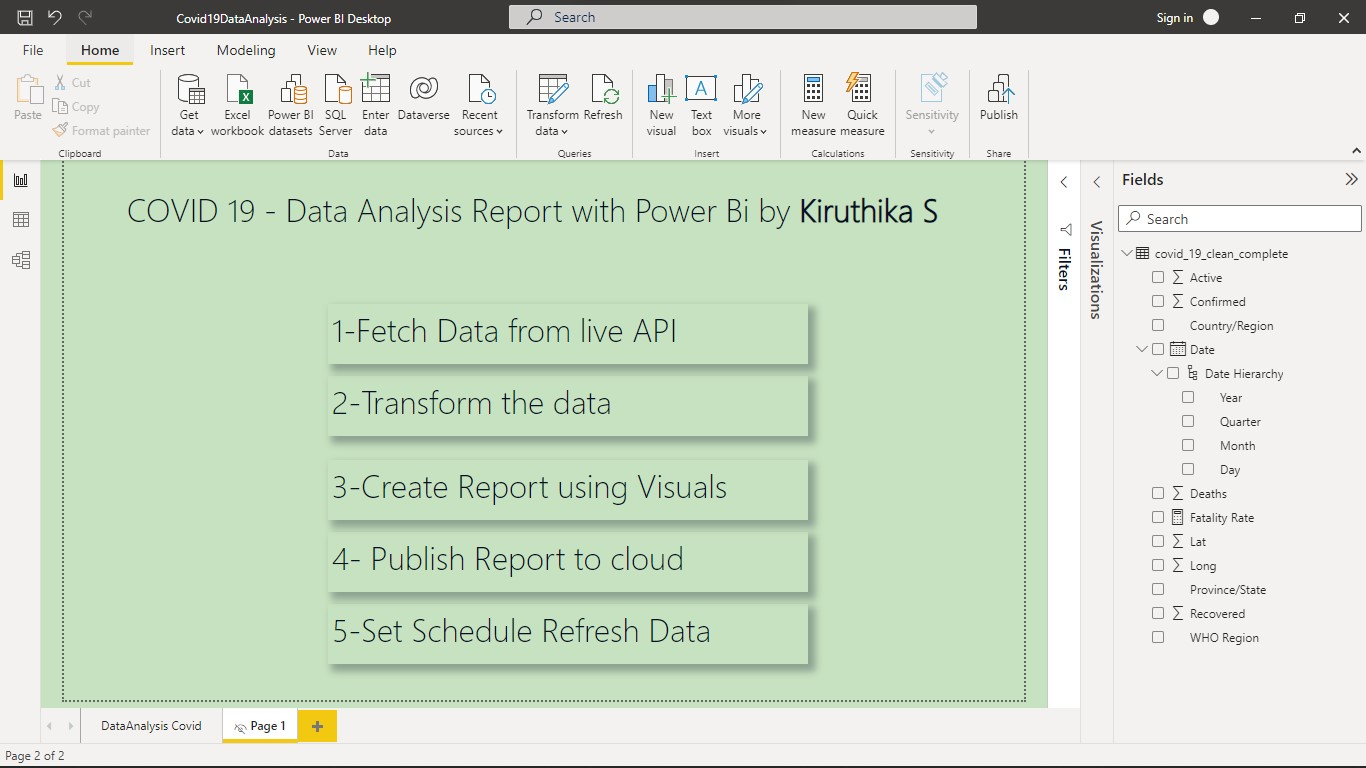

The page's visual inventory and layout, read from the dashboard file:
{"tool":"powerbi","page":{"name":"Page 1","canvas":[1280,720],"ordinal":1},"visuals":[{"type":"textbox","box":[78.5,31.7,1201.5,96.3],"z":0},{"type":"textbox","box":[352,192,640,80],"z":1000},{"type":"textbox","box":[352,288,640,80],"z":2000},{"type":"textbox","box":[352,400,640,80],"z":3000},{"type":"textbox","box":[352,496,640,80],"z":4000},{"type":"textbox","box":[352,592,640,80],"z":5000}]}

Visuals, with their boxes on the page's 1280x720 design canvas (x1, y1, x2, y2). These are canvas units, not pixel positions in the 1366x768 screenshot, which may show the page scaled, cropped or inside an application window:
textbox: [x1=78, y1=32, x2=1280, y2=128]
textbox: [x1=352, y1=192, x2=992, y2=272]
textbox: [x1=352, y1=288, x2=992, y2=368]
textbox: [x1=352, y1=400, x2=992, y2=480]
textbox: [x1=352, y1=496, x2=992, y2=576]
textbox: [x1=352, y1=592, x2=992, y2=672]
